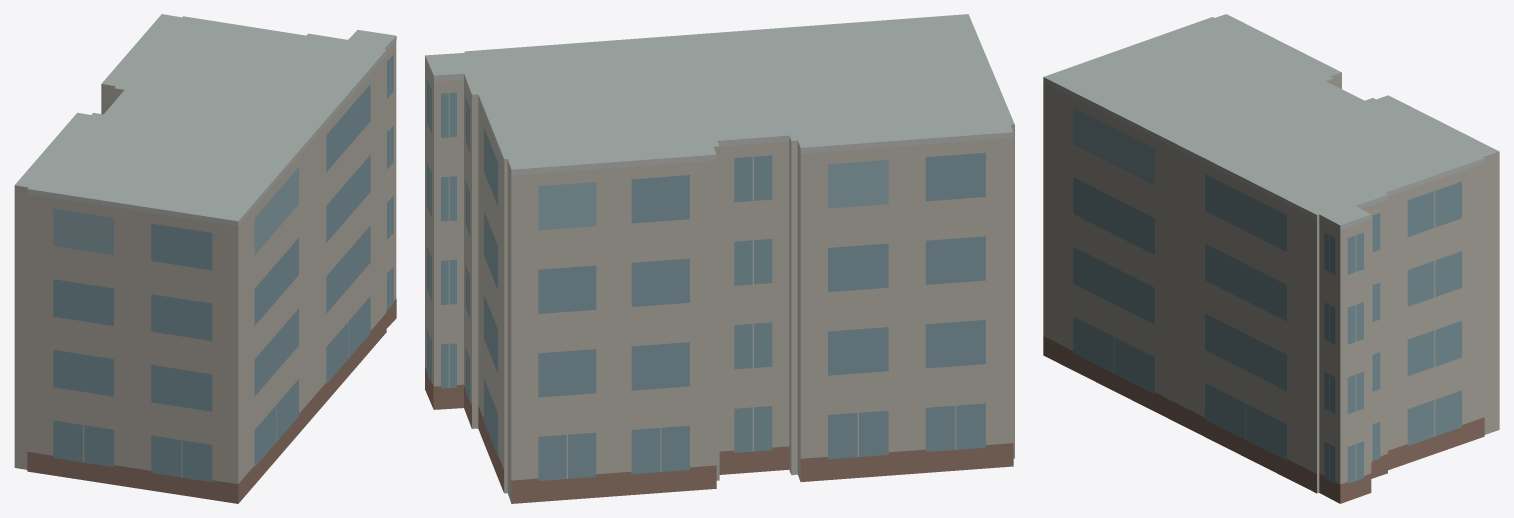
The model's file is survey-upis-32746229.glb.
The picture shows the model from 3 angles, left to right: view 1: azimuth 30°, elevation 25°; view 2: azimuth 150°, elevation 25°; view 3: azimuth 270°, elevation 25°; orthographic projection. The views are drawn at different scales.
Visible parts, largest first — view 1: survey-upis-32746229.tmp; view 2: survey-upis-32746229.tmp; view 3: survey-upis-32746229.tmp.
Part boxes in pixels (<box>): survey-upis-32746229.tmp: <box>14,14,396,503</box>; survey-upis-32746229.tmp: <box>425,14,1014,503</box>; survey-upis-32746229.tmp: <box>1043,14,1499,503</box>.
Size of the model in its own units: 22.97 by 14.1 by 20.95.
